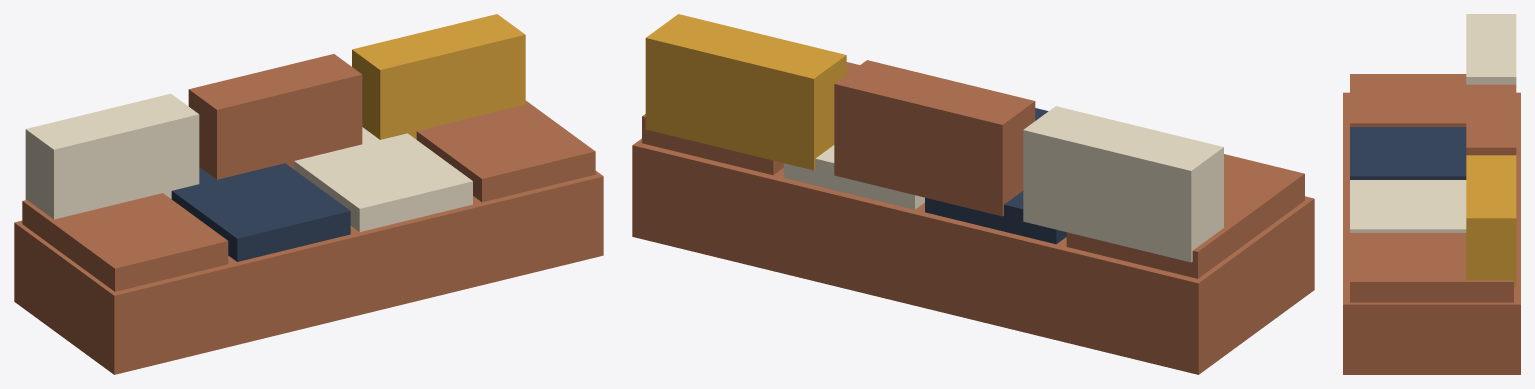
Rendered from low_sofa.glb.
The picture shows the model from 3 angles, left to right: view 1: azimuth 30°, elevation 25°; view 2: azimuth 150°, elevation 25°; view 3: azimuth 270°, elevation 25°; orthographic projection. The views are drawn at different scales.
Visible parts, largest first — view 1: low_sofa-col; view 2: low_sofa-col; view 3: low_sofa-col.
Boxes of the visible parts, <box> form: low_sofa-col: <box>14,14,603,374</box>; low_sofa-col: <box>632,14,1314,374</box>; low_sofa-col: <box>1343,14,1520,374</box>.
Bounding box in the file's own units: 2.2 × 0.74 × 0.78.
